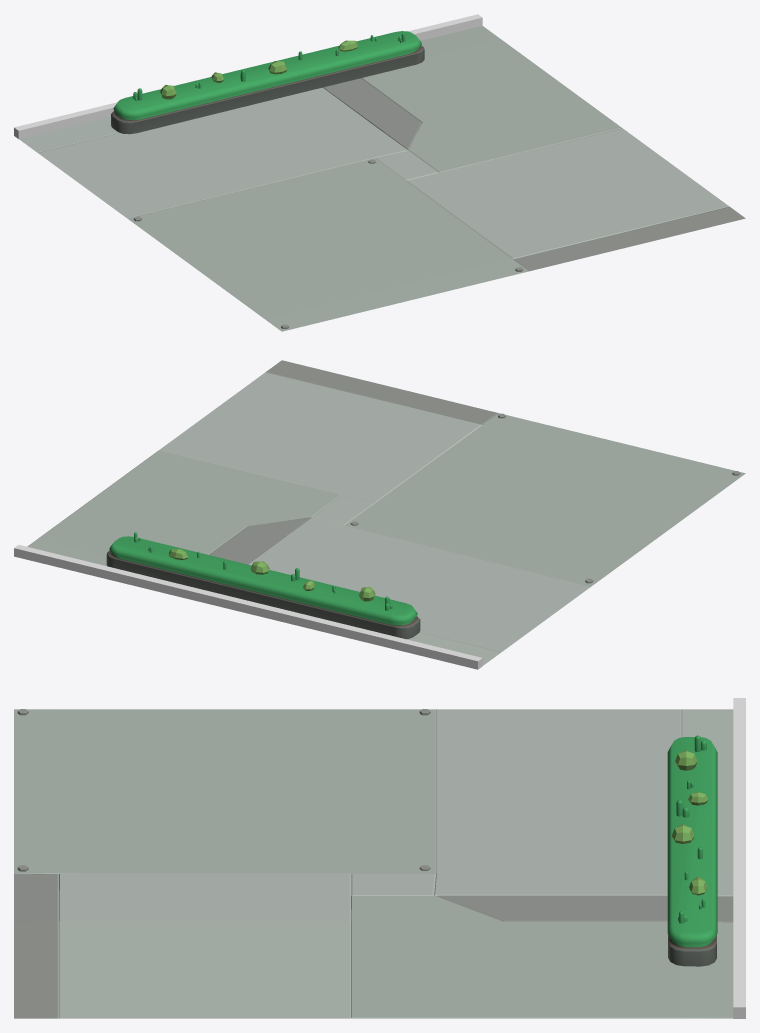
The picture shows the model from 3 angles, top to bottom: view 1: azimuth 30°, elevation 25°; view 2: azimuth 150°, elevation 25°; view 3: azimuth 270°, elevation 25°; orthographic projection. The views are drawn at different scales.
Visible parts, largest first — view 1: Scifi_Panel_04_Plaza014_group4.022_Scifi_Panel_04_Plaza014_g, TreePatch_Plaza014_group3.025_TreePatch_Plaza014_group3.001, Cube.925_Cube.005; view 2: Scifi_Panel_04_Plaza014_group4.022_Scifi_Panel_04_Plaza014_g, TreePatch_Plaza014_group3.025_TreePatch_Plaza014_group3.001, Cube.925_Cube.005; view 3: Scifi_Panel_04_Plaza014_group4.022_Scifi_Panel_04_Plaza014_g, TreePatch_Plaza014_group3.025_TreePatch_Plaza014_group3.001, Cube.925_Cube.005.
Boxes of the visible parts, left/top/right/bottom form: Scifi_Panel_04_Plaza014_group4.022_Scifi_Panel_04_Plaza014_g: left=19, top=26, right=745, bottom=331; TreePatch_Plaza014_group3.025_TreePatch_Plaza014_group3.001: left=111, top=31, right=424, bottom=134; Cube.925_Cube.005: left=14, top=14, right=482, bottom=138; Scifi_Panel_04_Plaza014_group4.022_Scifi_Panel_04_Plaza014_g: left=27, top=360, right=745, bottom=665; TreePatch_Plaza014_group3.025_TreePatch_Plaza014_group3.001: left=106, top=536, right=420, bottom=639; Cube.925_Cube.005: left=14, top=545, right=482, bottom=669; Scifi_Panel_04_Plaza014_group4.022_Scifi_Panel_04_Plaza014_g: left=14, top=709, right=733, bottom=1018; TreePatch_Plaza014_group3.025_TreePatch_Plaza014_group3.001: left=667, top=737, right=717, bottom=966; Cube.925_Cube.005: left=733, top=698, right=745, bottom=1018.
Size of the model in its own units: 10 by 0.7155 by 10.
